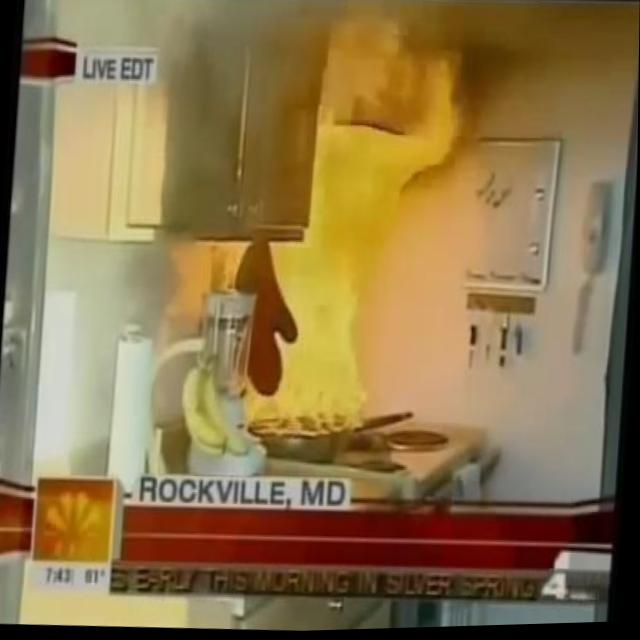fire: (238, 7, 465, 453)
